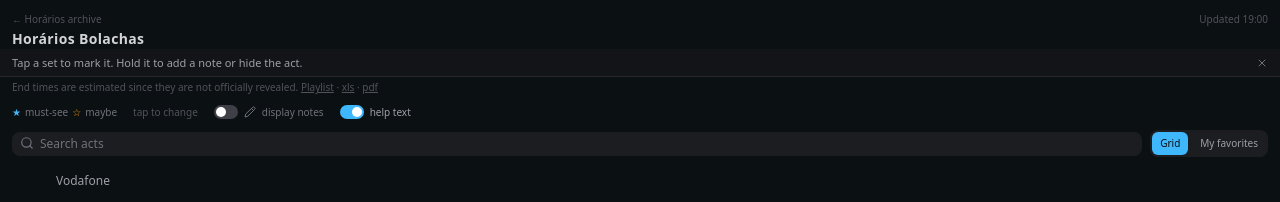
Test: TimetableApp help text switch › shows the mark hint and the legend by default, and hides them when switched off
Expected: the text "Tap a set to mark it. Hold it to add a note or hide the act." is shown, 12,55 -> 302,70
Expected: the text "tap to change" is shown, 133,105 -> 198,120
Step 1. Click the switch labelled "help text" → click(375, 112), box 340,99 -> 411,126
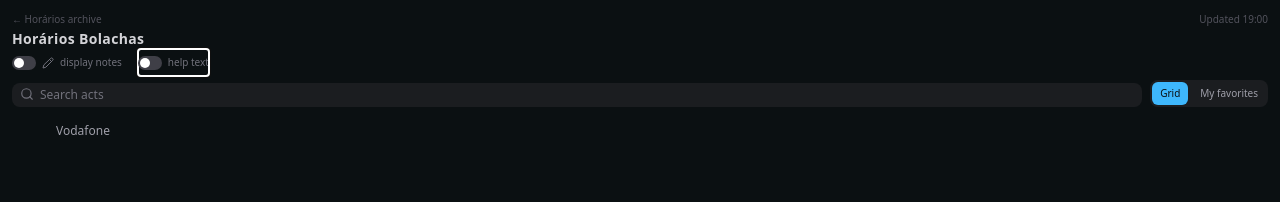
Now the text "Tap a set to mark it" is gone
Now the text "tap to change" is gone
